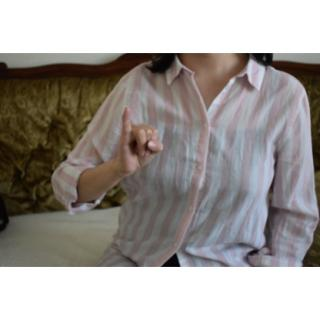MEEM: (116, 104, 164, 174)
